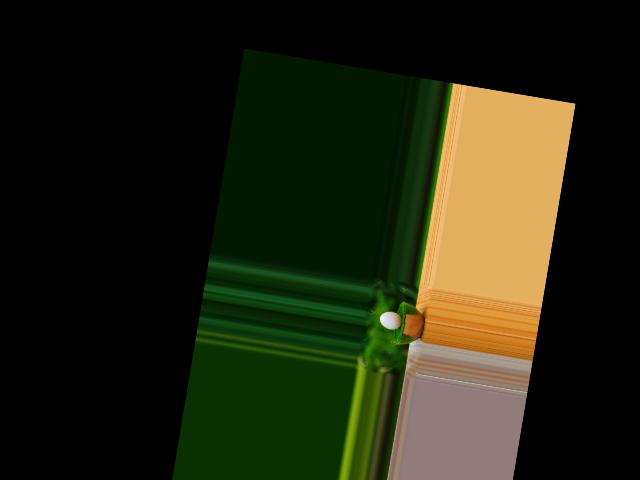egg: (378, 310, 403, 331)
